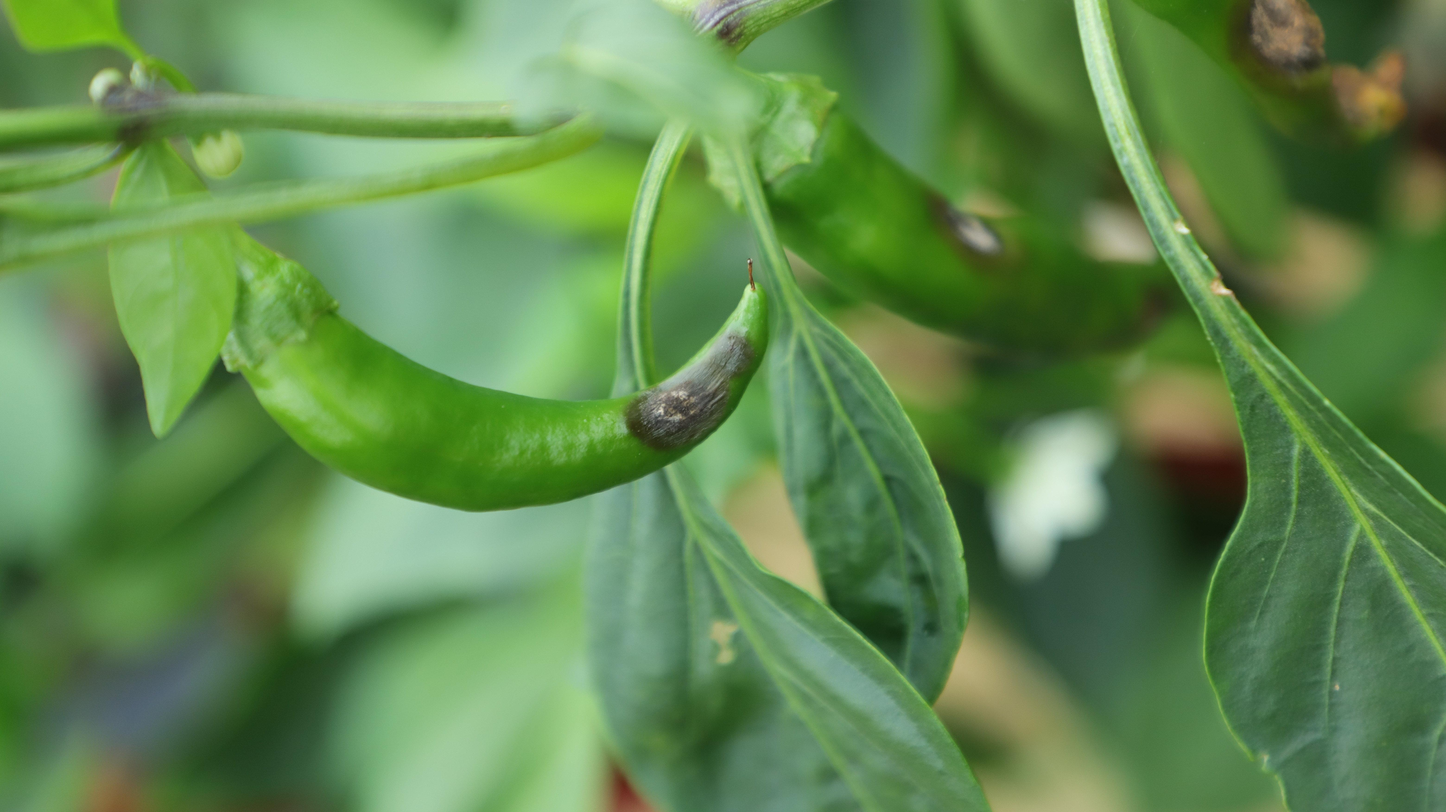Busuk Buah Antraknosa: (217, 242, 774, 516)
